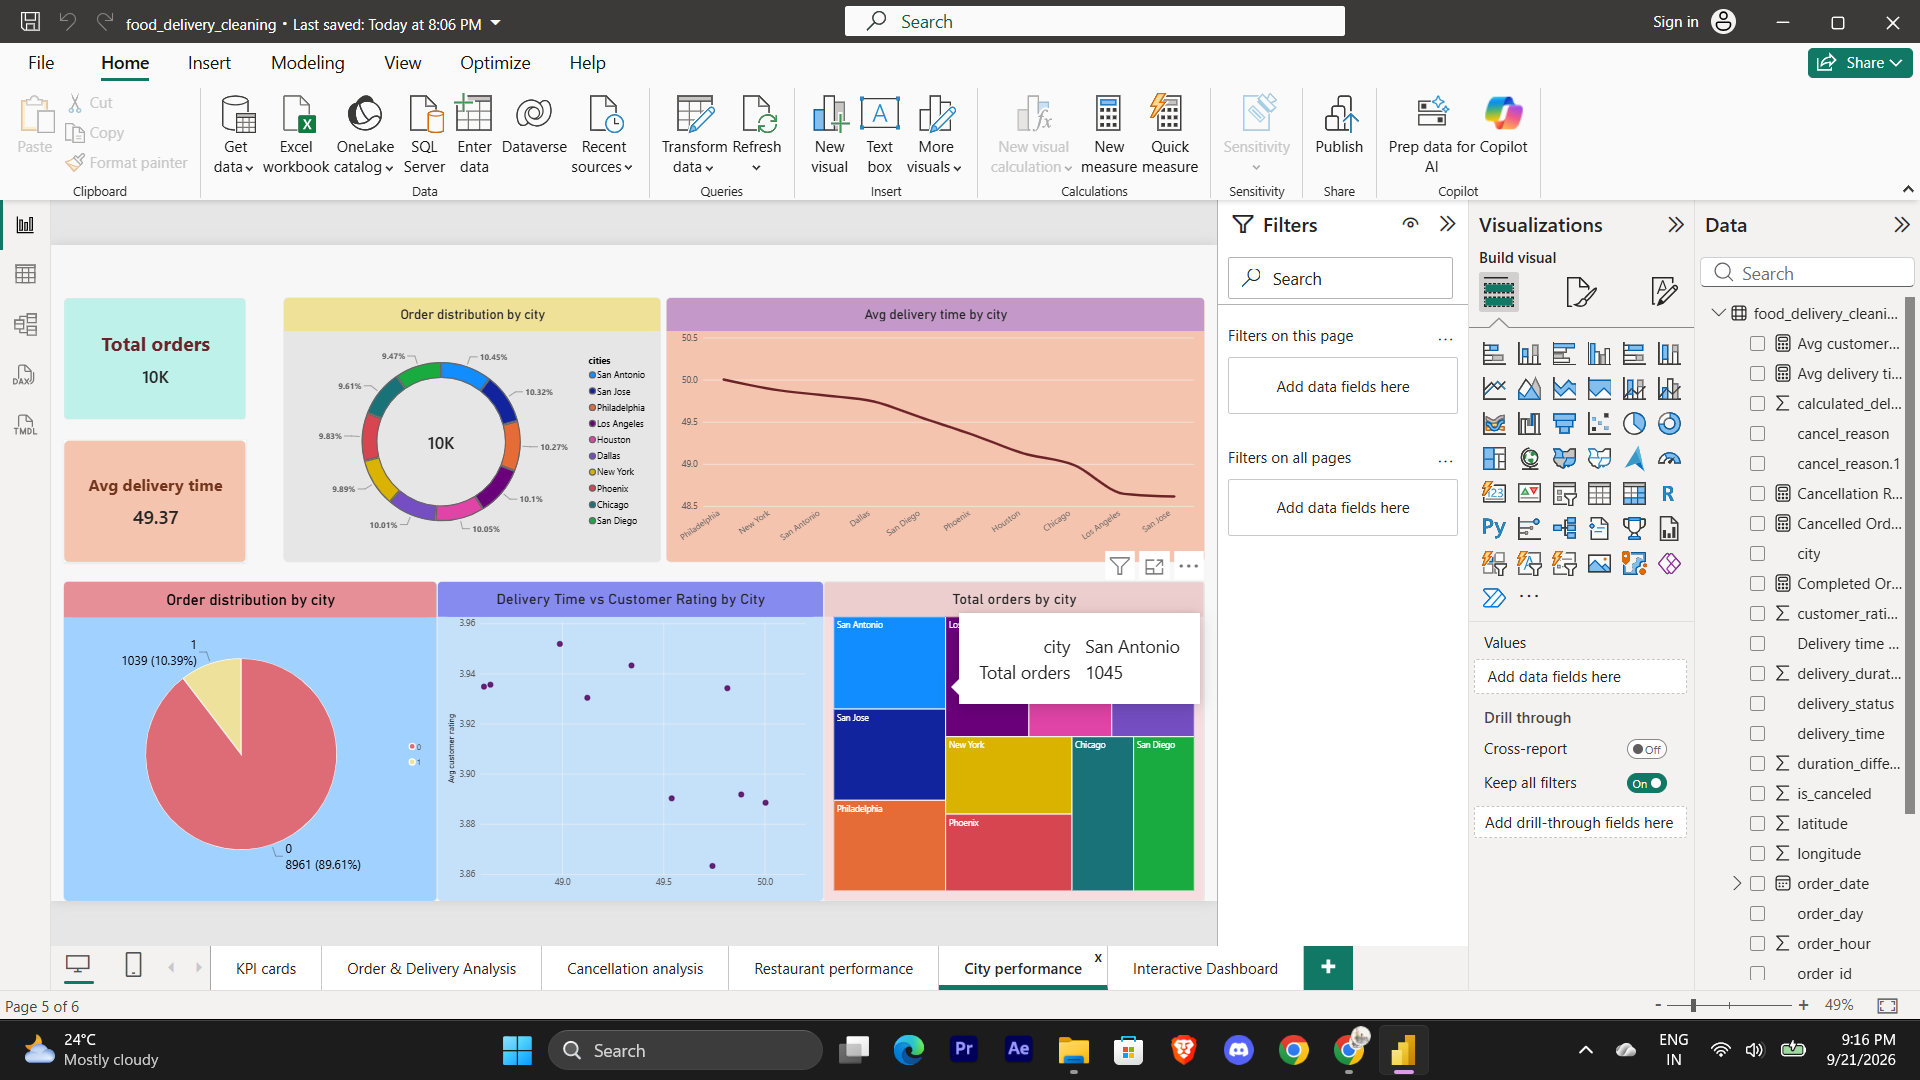

This screenshot's page, from the dashboard's own definition file:
{"tool":"powerbi","page":{"name":"City performance","canvas":[1920,1080],"ordinal":4},"visuals":[{"type":"cardVisual","fields":{"Data":["food_delivery_cleaning.Total orders"]},"box":[20.6,86.4,300.5,201.7],"z":0},{"type":"cardVisual","fields":{"Data":["food_delivery_cleaning.Avg delivery time"]},"box":[20.6,321.1,300.5,201.7],"z":1000},{"type":"donutChart","title":"Order distribution by city","fields":{"Category":["food_delivery_cleaning.city"],"Y":["food_delivery_cleaning.Total orders"]},"box":[382.8,86.4,621.6,436.4],"z":2000},{"type":"lineChart","fields":{"Category":["food_delivery_cleaning.city"],"Y":["food_delivery_cleaning.Avg delivery time"]},"box":[1012.7,86.4,887.1,436.4],"z":3000},{"type":"pieChart","title":"Order distribution by city","fields":{"Y":["food_delivery_cleaning.Total orders"],"Category":["food_delivery_cleaning.is_canceled"]},"box":[20.6,553.7,615.4,526.9],"z":4000},{"type":"scatterChart","title":"Delivery Time vs Customer Rating by City","fields":{"X":["food_delivery_cleaning.Avg delivery time"],"Y":["food_delivery_cleaning.Avg customer rating"],"Category":["food_delivery_cleaning.city"]},"box":[636,553.7,636,526.9],"z":5000},{"type":"treemap","fields":{"Group":["food_delivery_cleaning.city"],"Values":["food_delivery_cleaning.Total orders"]},"box":[1272,553.7,627.8,526.9],"z":6000}]}

Visuals, with their boxes on the page's 1920x1080 design canvas (x1, y1, x2, y2). These are canvas units, not pixel positions in the 1920x1080 screenshot, which may show the page scaled, cropped or inside an application window:
cardVisual - food_delivery_cleaning.Total orders: 21:86:321:288
cardVisual - food_delivery_cleaning.Avg delivery time: 21:321:321:523
"Order distribution by city" donutChart: 383:86:1004:523
lineChart - food_delivery_cleaning.city x food_delivery_cleaning.Avg delivery time: 1013:86:1900:523
"Order distribution by city" pieChart: 21:554:636:1081
"Delivery Time vs Customer Rating by City" scatterChart: 636:554:1272:1081
treemap - food_delivery_cleaning.city x food_delivery_cleaning.Total orders: 1272:554:1900:1081
